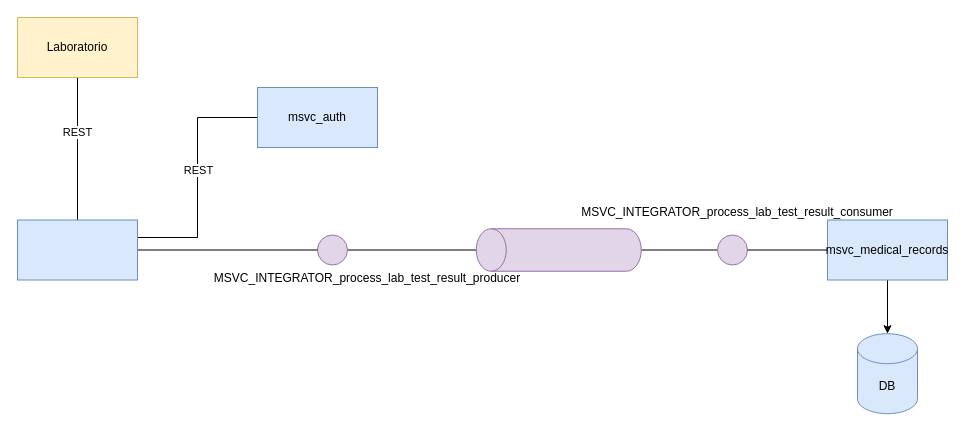
Some shapes in this 966 by 432 pixel diagram are drawn without their labels. Each missing label, with the centre of its shape:
"message_broker" goes at (x=558, y=249).
"msvc_api_integrator" goes at (x=77, y=249).
